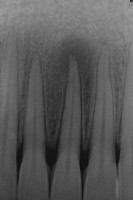Furcation Involvement: (46, 35, 95, 103)
